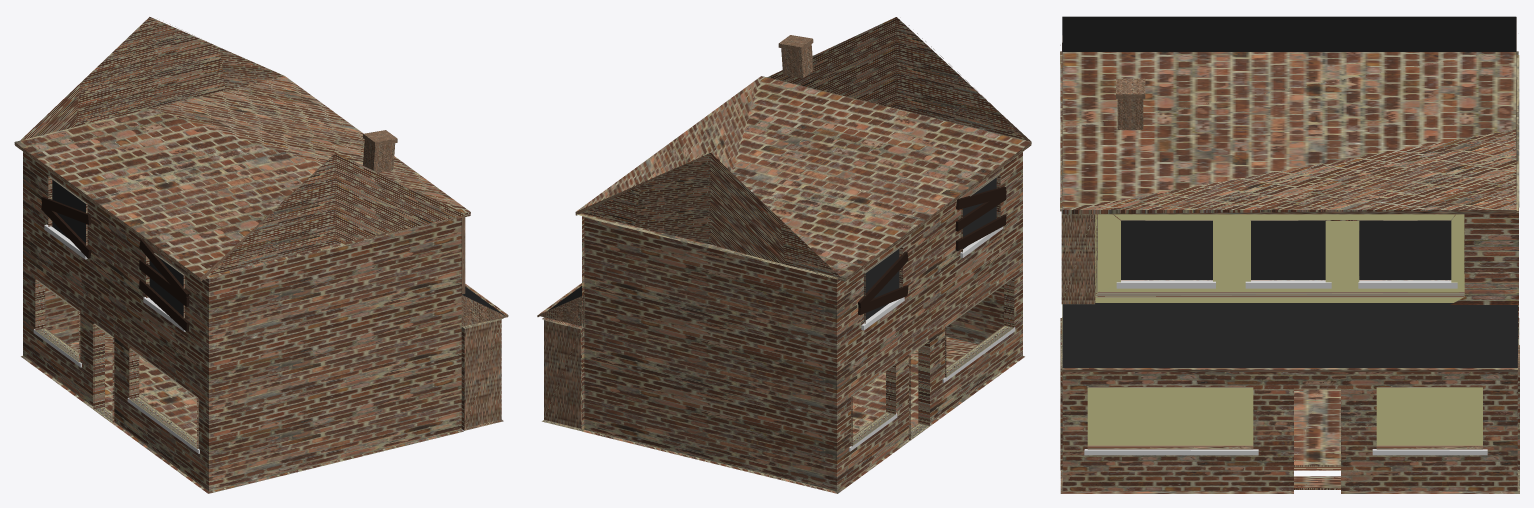
Rendered from newhouse.glb.
3 renders of one model, left to right at view 1: azimuth 30°, elevation 25°; view 2: azimuth 150°, elevation 25°; view 3: azimuth 270°, elevation 25°, orthographic. The views are drawn at different scales.
Visible parts, largest first — view 1: Cube.017; view 2: Cube.017; view 3: Cube.017.
Part boxes in pixels (left/top/right/bottom): Cube.017: left=14, top=17, right=508, bottom=493; Cube.017: left=537, top=17, right=1031, bottom=493; Cube.017: left=1060, top=16, right=1519, bottom=493.
Bounding box in the file's own units: 23.68 × 22.86 × 25.04.
Materials: 6 (1 with a texture image).
